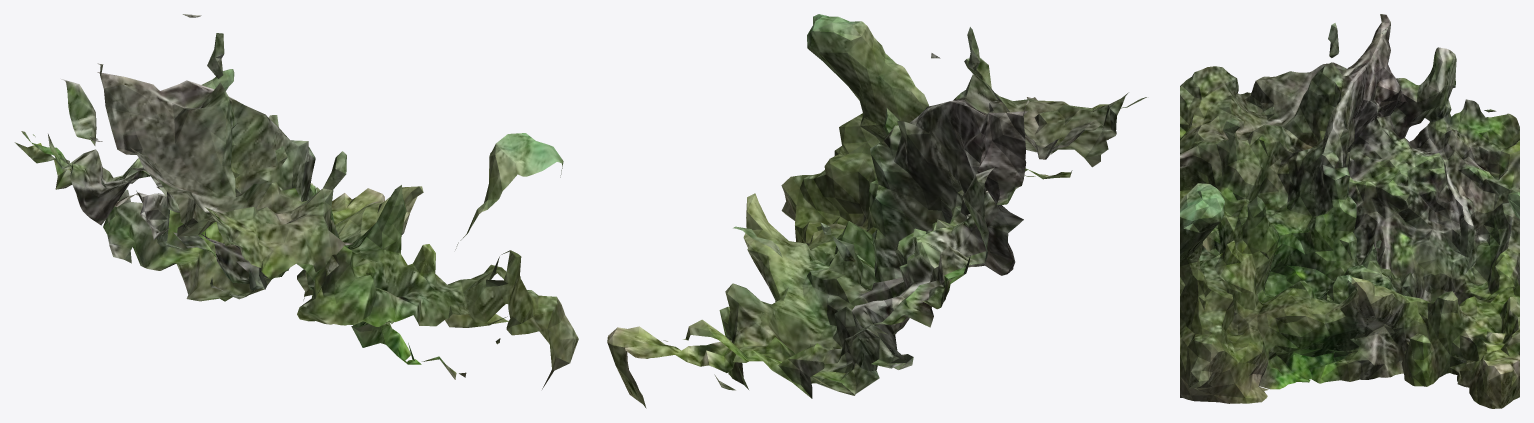
The picture shows the model from 3 angles, left to right: view 1: azimuth 30°, elevation 25°; view 2: azimuth 150°, elevation 25°; view 3: azimuth 270°, elevation 25°; orthographic projection. The views are drawn at different scales.
Bounding box in the file's own units: 2.93 × 2.76 × 2.95.
6 materials, 6 textured.
